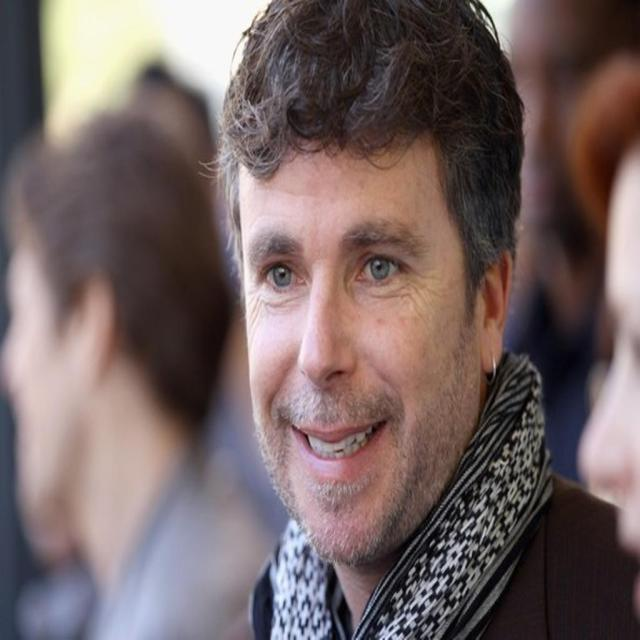Face: (239, 137, 469, 551)
